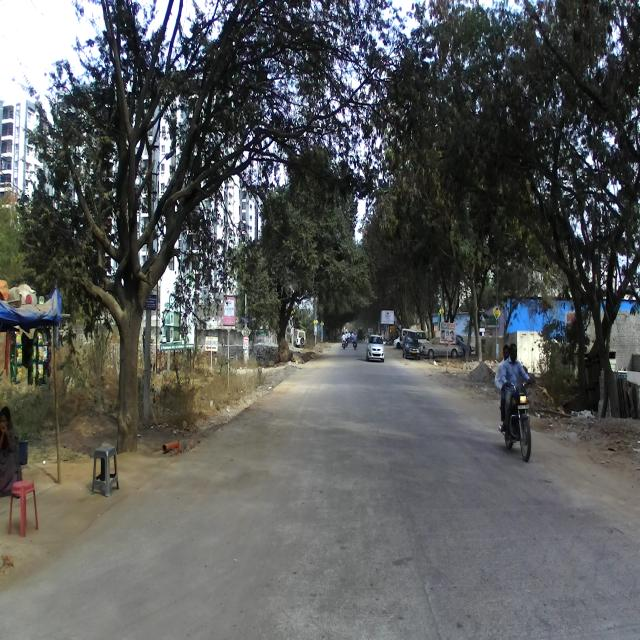motorcycle ahead at: (494, 376, 537, 459)
tree ahead at: (92, 123, 172, 436)
